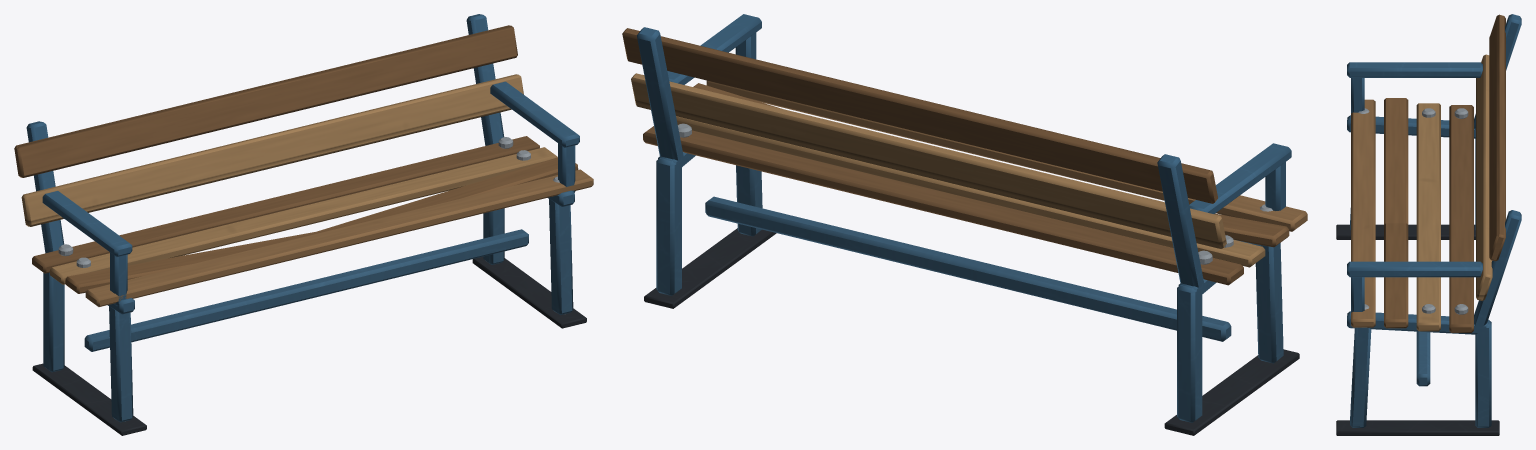
Rendered from bench_colony.glb.
3 renders of one model, left to right at view 1: azimuth 30°, elevation 25°; view 2: azimuth 150°, elevation 25°; view 3: azimuth 270°, elevation 25°, orthographic. The views are drawn at different scales.
Visible parts, largest first — view 1: bench_colony; view 2: bench_colony; view 3: bench_colony.
Part boxes in pixels (bbox=[...]): bench_colony: bbox=[14, 14, 593, 435]; bench_colony: bbox=[622, 14, 1307, 435]; bench_colony: bbox=[1336, 14, 1521, 435].
Bounding box in the file's own units: 1.94 × 0.8844 × 0.681.
Materials: 8 (8 with a texture image).
